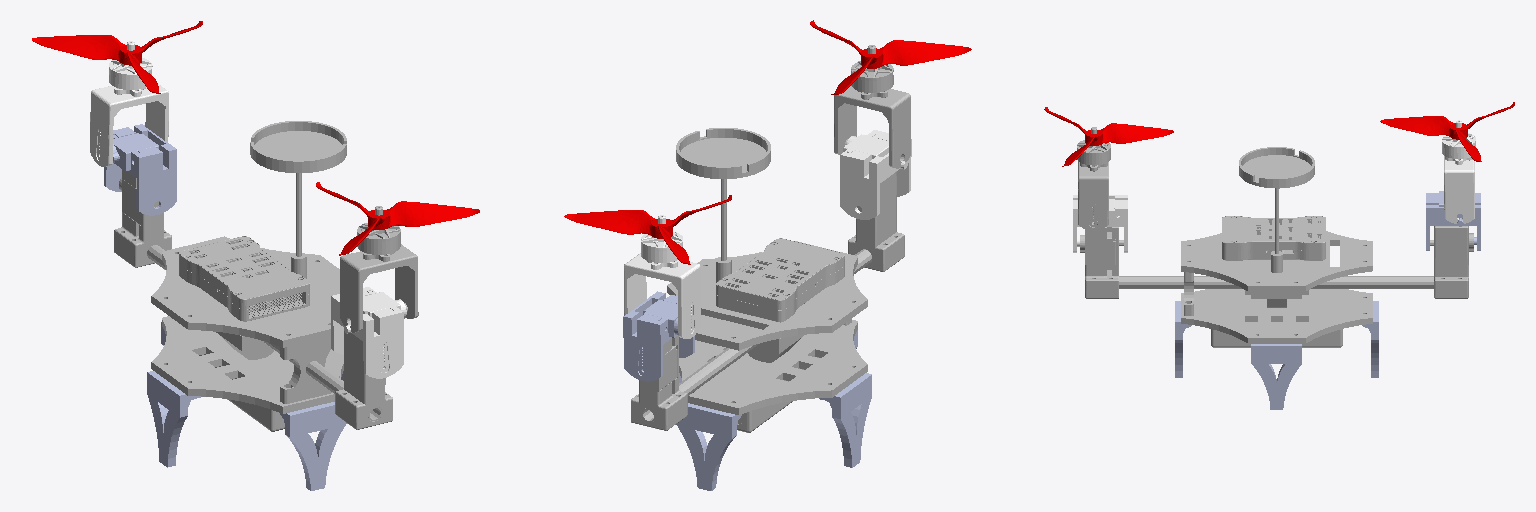
URDF robot description (Birotor_Gzmodel):
<?xml version="1.0" encoding="utf-8"?>
<!-- This URDF was automatically created by SolidWorks to URDF Exporter! Originally created by Stephen Brawner (brawner@gmail.com) 
     Commit Version: 1.5.1-0-g916b5db  Build Version: 1.5.7152.31018
     For more information, please see http://wiki.ros.org/sw_urdf_exporter -->
<robot
  name="Birotor_Gzmodel">
  <link
    name="base_link">
    <inertial>
      <origin
        xyz="-2.2204E-15 3.2301E-15 0.03735"
        rpy="0 0 0" />
      <mass
        value="0.037781" />
      <inertia
        ixx="1.0537E-05"
        ixy="-1.2046E-21"
        ixz="1.161E-20"
        iyy="1.0537E-05"
        iyz="6.5906E-21"
        izz="4.0915E-06" />
    </inertial>
    <visual>
      <origin
        xyz="0 0 0"
        rpy="0 0 0" />
      <geometry>
        <mesh
          filename="package://Birotor_Gzmodel/meshes/base_link.STL" />
      </geometry>
      <material
        name="">
        <color
          rgba="0.79216 0.81961 0.93333 1" />
      </material>
    </visual>
    <collision>
      <origin
        xyz="0 0 0"
        rpy="0 0 0" />
      <geometry>
        <mesh
          filename="package://Birotor_Gzmodel/meshes/base_link.STL" />
      </geometry>
    </collision>
  </link>
  <link
    name="Bottom_plate_chassis">
    <inertial>
      <origin
        xyz="0.00099946 -0.0021149 0.076563"
        rpy="0 0 0" />
      <mass
        value="0.5" />
      <inertia
        ixx="0.00033039"
        ixy="-6.2413E-08"
        ixz="2.4799E-12"
        iyy="0.00013521"
        iyz="5.9666E-08"
        izz="0.0004345" />
    </inertial>
    <visual>
      <origin
        xyz="0 0 0"
        rpy="0 0 0" />
      <geometry>
        <mesh
          filename="package://Birotor_Gzmodel/meshes/Bottom_plate_chassis.STL" />
      </geometry>
      <material
        name="">
        <color
          rgba="0.8 0.8 0.8 1" />
      </material>
    </visual>
    <collision>
      <origin
        xyz="0 0 0"
        rpy="0 0 0" />
      <geometry>
        <mesh
          filename="package://Birotor_Gzmodel/meshes/Bottom_plate_chassis.STL" />
      </geometry>
    </collision>
  </link>
  <joint
    name="Bottom_plate_chassis"
    type="fixed">
    <origin
      xyz="0 0 0"
      rpy="0 0 0" />
    <parent
      link="base_link" />
    <child
      link="Bottom_plate_chassis" />
    <axis
      xyz="0 0 0" />
  </joint>
  <link
    name="Left_servo1">
    <inertial>
      <origin
        xyz="0.023622 -0.0021429 -0.015941"
        rpy="0 0 0" />
      <mass
        value="0.020585" />
      <inertia
        ixx="5.1518E-06"
        ixy="-5.4652E-08"
        ixz="-6.3829E-08"
        iyy="5.2368E-06"
        iyz="3.293E-08"
        izz="2.682E-06" />
    </inertial>
    <visual>
      <origin
        xyz="0 0 0"
        rpy="0 0 0" />
      <geometry>
        <mesh
          filename="package://Birotor_Gzmodel/meshes/Left_servo1.STL" />
      </geometry>
      <material
        name="">
        <color
          rgba="0.79216 0.81961 0.93333 1" />
      </material>
    </visual>
    <collision>
      <origin
        xyz="0 0 0"
        rpy="0 0 0" />
      <geometry>
        <mesh
          filename="package://Birotor_Gzmodel/meshes/Left_servo1.STL" />
      </geometry>
    </collision>
  </link>
  <joint
    name="Left_servo1_joint"
    type="revolute">
    <origin
      xyz="-0.00125 0.1542 0.115"
      rpy="-1.5708 -1.5568 0" />
    <parent
      link="Bottom_plate_chassis" />
    <child
      link="Left_servo1" />
    <axis
      xyz="0 0 1" />
    <limit
      lower="-1.47"
      upper="1.47"
      effort="2.5"
      velocity="3" />
  </joint>
  <link
    name="Left_servo2">
    <inertial>
      <origin
        xyz="0.035886 -0.00045364 -0.015986"
        rpy="0 0 0" />
      <mass
        value="0.017845" />
      <inertia
        ixx="4.1156E-06"
        ixy="1.6714E-08"
        ixz="-8.7921E-08"
        iyy="5.432E-06"
        iyz="1.1148E-09"
        izz="2.8982E-06" />
    </inertial>
    <visual>
      <origin
        xyz="0 0 0"
        rpy="0 0 0" />
      <geometry>
        <mesh
          filename="package://Birotor_Gzmodel/meshes/Left_servo2.STL" />
      </geometry>
      <material
        name="">
        <color
          rgba="1 1 1 1" />
      </material>
    </visual>
    <collision>
      <origin
        xyz="0 0 0"
        rpy="0 0 0" />
      <geometry>
        <mesh
          filename="package://Birotor_Gzmodel/meshes/Left_servo2.STL" />
      </geometry>
    </collision>
  </link>
  <joint
    name="Left_servo2_joint"
    type="revolute">
    <origin
      xyz="0.02875 -0.0215 -0.011"
      rpy="1.5708 0 0" />
    <parent
      link="Left_servo1" />
    <child
      link="Left_servo2" />
    <axis
      xyz="0 0 1" />
    <limit
      lower="-1.47"
      upper="1.47"
      effort="2.5"
      velocity="3" />
    <mimic
      joint="Left_servo1_joint"
      multiplier="1"
      offset="0" />
  </joint>
  <link
    name="Left_prop">
    <inertial>
      <origin
        xyz="4.3368E-06 -2.5067E-06 -0.0068067"
        rpy="0 0 0" />
      <mass
        value="0.0030459" />
      <inertia
        ixx="1.016E-06"
        ixy="-3.5495E-10"
        ixz="-2.6675E-11"
        iyy="1.0166E-06"
        iyz="-9.1423E-12"
        izz="1.9881E-06" />
    </inertial>
    <visual>
      <origin
        xyz="0 0 0"
        rpy="0 0 0" />
      <geometry>
        <mesh
          filename="package://Birotor_Gzmodel/meshes/Left_prop.STL" />
      </geometry>
      <material
        name="">
        <color
          rgba="0.96471 0.011765 0.011765 1" />
      </material>
    </visual>
    <collision>
      <origin
        xyz="0 0 0"
        rpy="0 0 0" />
      <geometry>
        <mesh
          filename="package://Birotor_Gzmodel/meshes/Left_prop.STL" />
      </geometry>
    </collision>
  </link>
  <joint
    name="Left_prop_joint"
    type="continuous">
    <origin
      xyz="0.072694 -0.00091697 -0.016"
      rpy="1.5708 1.5706 1.5582" />
    <parent
      link="Left_servo2" />
    <child
      link="Left_prop" />
    <axis
      xyz="0 0 1" />
    <limit
      effort="10"
      velocity="500" />
  </joint>
  <link
    name="Right_servo1">
    <inertial>
      <origin
        xyz="0.0019827 0.02363 -0.015753"
        rpy="0 0 0" />
      <mass
        value="0.020585" />
      <inertia
        ixx="5.2364E-06"
        ixy="5.5186E-08"
        ixz="-3.2686E-08"
        iyy="5.1522E-06"
        iyz="-6.3944E-08"
        izz="2.682E-06" />
    </inertial>
    <visual>
      <origin
        xyz="0 0 0"
        rpy="0 0 0" />
      <geometry>
        <mesh
          filename="package://Birotor_Gzmodel/meshes/Right_servo1.STL" />
      </geometry>
      <material
        name="">
        <color
          rgba="1 1 1 1" />
      </material>
    </visual>
    <collision>
      <origin
        xyz="0 0 0"
        rpy="0 0 0" />
      <geometry>
        <mesh
          filename="package://Birotor_Gzmodel/meshes/Right_servo1.STL" />
      </geometry>
    </collision>
  </link>
  <joint
    name="Right_servo1_joint"
    type="revolute">
    <origin
      xyz="0.00125 -0.1542 0.115"
      rpy="1.5708 0 0" />
    <parent
      link="Bottom_plate_chassis" />
    <child
      link="Right_servo1" />
    <axis
      xyz="0 0 1" />
    <limit
      lower="-1.47"
      upper="1.47"
      effort="2.5"
      velocity="3" />
  </joint>
  <link
    name="Right_servo2">
    <inertial>
      <origin
        xyz="0.0003729 0.035887 -0.015986"
        rpy="0 0 0" />
      <mass
        value="0.017845" />
      <inertia
        ixx="5.432E-06"
        ixy="-1.3561E-08"
        ixz="-9.0055E-10"
        iyy="4.1156E-06"
        iyz="-8.7922E-08"
        izz="2.8982E-06" />
    </inertial>
    <visual>
      <origin
        xyz="0 0 0"
        rpy="0 0 0" />
      <geometry>
        <mesh
          filename="package://Birotor_Gzmodel/meshes/Right_servo2.STL" />
      </geometry>
      <material
        name="">
        <color
          rgba="0.8 0.8 0.8 1" />
      </material>
    </visual>
    <collision>
      <origin
        xyz="0 0 0"
        rpy="0 0 0" />
      <geometry>
        <mesh
          filename="package://Birotor_Gzmodel/meshes/Right_servo2.STL" />
      </geometry>
    </collision>
  </link>
  <joint
    name="Right_servo2_joint"
    type="revolute">
    <origin
      xyz="0.021199 0.028825 -0.0105"
      rpy="0.0035209 1.5708 0" />
    <parent
      link="Right_servo1" />
    <child
      link="Right_servo2" />
    <axis
      xyz="0 0 1" />
    <limit
      lower="-1.47"
      upper="1.47"
      effort="2.5"
      velocity="3" />
  </joint>
  <link
    name="Right_prop">
    <inertial>
      <origin
        xyz="1.4742E-06 6.6133E-07 -0.0068067"
        rpy="0 0 0" />
      <mass
        value="0.003044" />
      <inertia
        ixx="1.0138E-06"
        ixy="3.4763E-10"
        ixz="-3.7672E-11"
        iyy="1.0136E-06"
        iyz="2.1242E-11"
        izz="1.983E-06" />
    </inertial>
    <visual>
      <origin
        xyz="0 0 0"
        rpy="0 0 0" />
      <geometry>
        <mesh
          filename="package://Birotor_Gzmodel/meshes/Right_prop.STL" />
      </geometry>
      <material
        name="">
        <color
          rgba="0.96471 0.011765 0.011765 1" />
      </material>
    </visual>
    <collision>
      <origin
        xyz="0 0 0"
        rpy="0 0 0" />
      <geometry>
        <mesh
          filename="package://Birotor_Gzmodel/meshes/Right_prop.STL" />
      </geometry>
    </collision>
  </link>
  <joint
    name="Right_prop_joint"
    type="continuous">
    <origin
      xyz="0.00075903 0.072696 -0.016"
      rpy="-1.5708 -1.5708 -0.010441" />
    <parent
      link="Right_servo2" />
    <child
      link="Right_prop" />
    <axis
      xyz="0 0 1" />
    <limit
      effort="10"
      velocity="500" />
  </joint>
</robot>

--- Render facts (derived) ---
The picture shows the robot from 3 angles, left to right: view 1: azimuth 30°, elevation 25°; view 2: azimuth 150°, elevation 25°; view 3: azimuth 270°, elevation 25°; orthographic projection.
Model Birotor_Gzmodel with 8 links and 7 joints (4 revolute, 2 continuous, 1 fixed), rooted at base_link, posed every joint at zero.
Links seen in each view (by area): view 1: Bottom_plate_chassis, base_link, Right_servo2, Left_servo1, Left_servo2, Right_servo1, Left_prop, Right_prop; view 2: Bottom_plate_chassis, base_link, Right_servo2, Left_servo2, Right_servo1, Left_servo1, Right_prop, Left_prop; view 3: Bottom_plate_chassis, base_link, Right_servo2, Left_servo2, Left_prop, Right_prop, Left_servo1, Right_servo1.
Boxes of the visible links, left/top/right/bottom form: Bottom_plate_chassis: left=114, top=121, right=392, bottom=431; base_link: left=147, top=322, right=347, bottom=490; Right_servo2: left=340, top=206, right=418, bottom=332; Left_servo1: left=104, top=124, right=176, bottom=215; Left_servo2: left=90, top=41, right=168, bottom=166; Right_servo1: left=331, top=287, right=406, bottom=378; Left_prop: left=32, top=21, right=202, bottom=93; Right_prop: left=316, top=182, right=479, bottom=255; Bottom_plate_chassis: left=631, top=128, right=904, bottom=432; base_link: left=676, top=330, right=871, bottom=490; Right_servo2: left=834, top=45, right=910, bottom=168; Left_servo2: left=624, top=215, right=700, bottom=338; Right_servo1: left=840, top=130, right=911, bottom=219; Left_servo1: left=623, top=291, right=694, bottom=381; Right_prop: left=810, top=20, right=971, bottom=94; Left_prop: left=564, top=195, right=731, bottom=264; Bottom_plate_chassis: left=1080, top=147, right=1473, bottom=347; base_link: left=1175, top=301, right=1378, bottom=409; Right_servo2: left=1077, top=127, right=1110, bottom=230; Left_servo2: left=1442, top=120, right=1475, bottom=223; Left_prop: left=1380, top=102, right=1514, bottom=161; Right_prop: left=1044, top=107, right=1173, bottom=166; Left_servo1: left=1426, top=191, right=1480, bottom=250; Right_servo1: left=1073, top=195, right=1127, bottom=252.
Size in the robot's own frame: 0.1293 by 0.3686 by 0.217 metres.
8 mesh visuals loaded from 8 distinct referenced files (8 binary STL).
